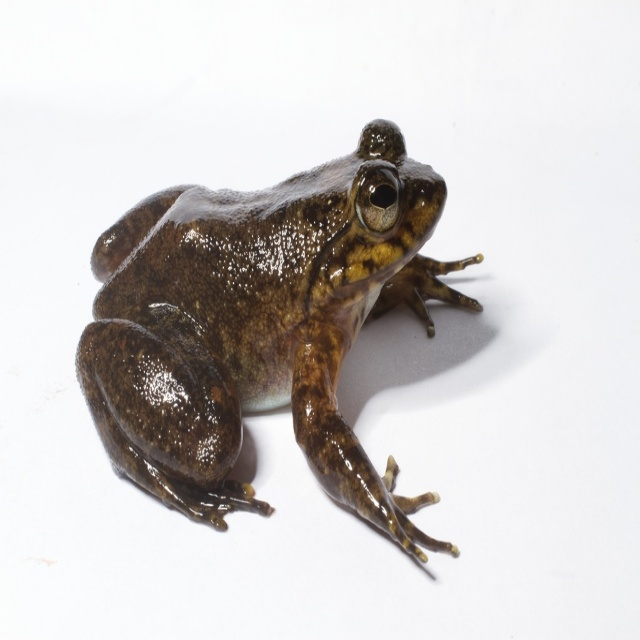Frog: (75, 118, 484, 563)
